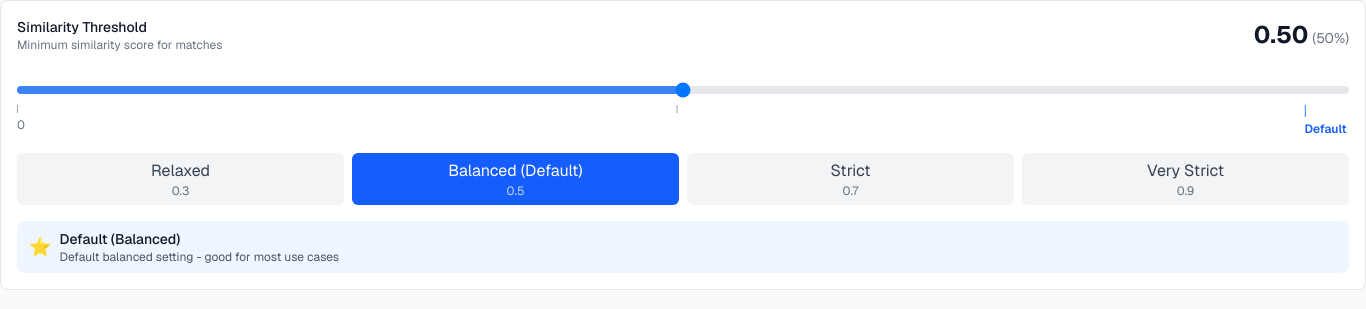
Test: SimilarityThresholdSlider › User Interactions › changes threshold when preset buttons are clicked
Click the button "Strict 0.7".
click(850, 179)  # box [687,153,1014,205]
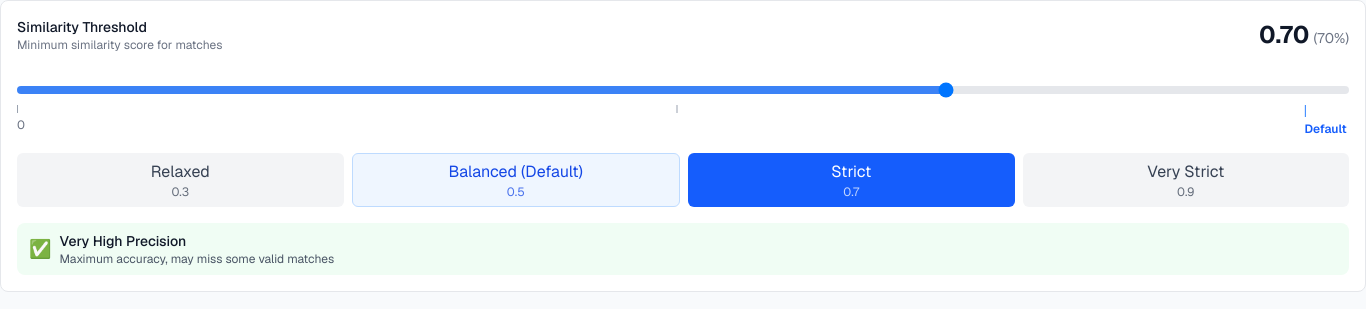
Expected: the text "0.70" is shown, [1259,19,1309,50]
